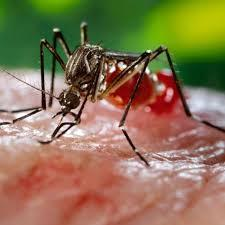insect: (2, 17, 225, 170)
